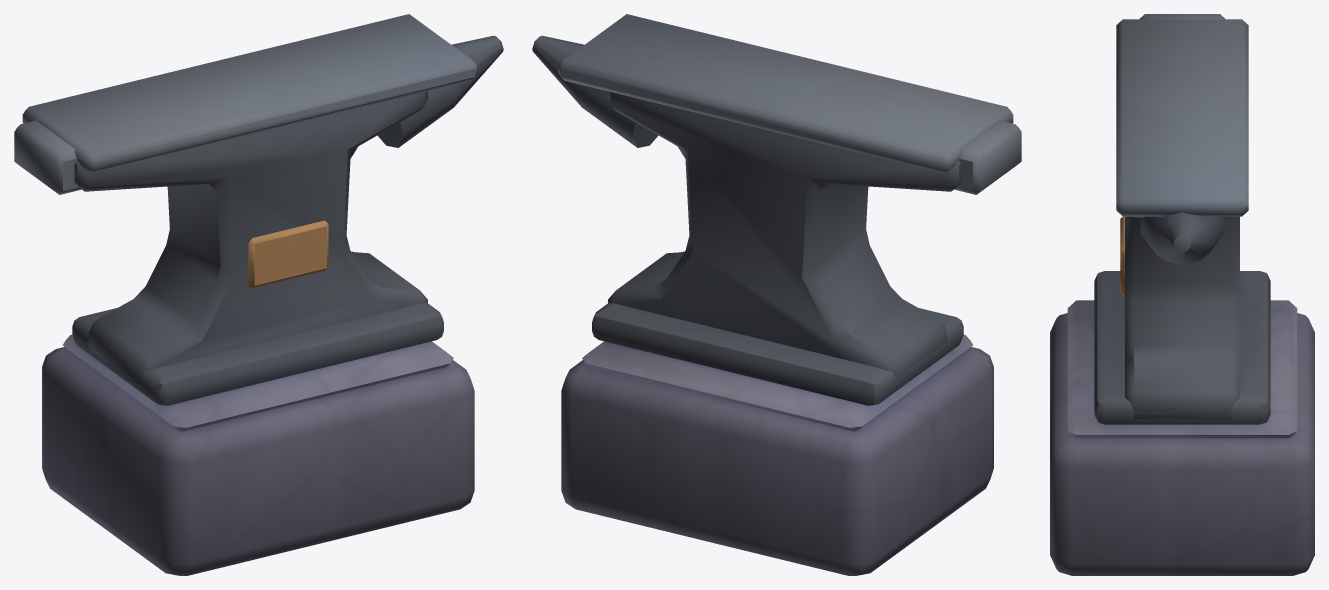
Rendered from EF_P07_Anvil.fbx.
3 renders of one model, left to right at view 1: azimuth 30°, elevation 25°; view 2: azimuth 150°, elevation 25°; view 3: azimuth 270°, elevation 25°, orthographic. The views are drawn at different scales.
Parts seen in each view (by area): view 1: Anvil, Block; view 2: Anvil, Block; view 3: Anvil, Block.
Boxes of the visible parts, <box> form: Anvil: <box>14,14,503,405</box>; Block: <box>42,334,474,575</box>; Anvil: <box>532,14,1021,405</box>; Block: <box>561,334,993,575</box>; Anvil: <box>1094,14,1270,424</box>; Block: <box>1050,300,1314,575</box>.
Size of the model in its own units: 1.17 by 1 by 0.6.
